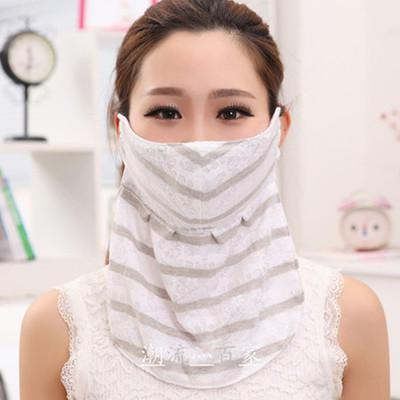OK: (132, 78, 282, 228)
